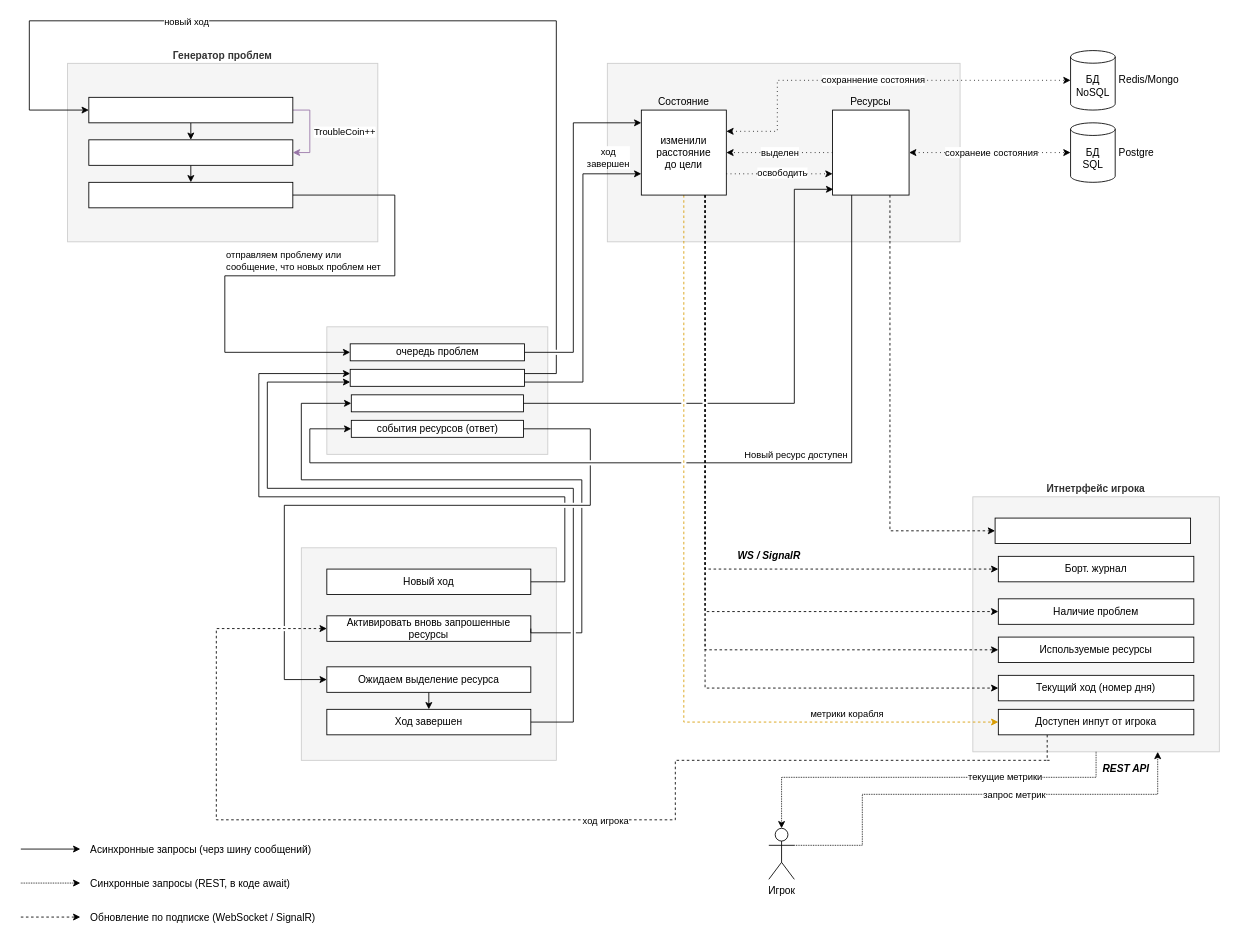
The diagram is 1234 pixels wide and 945 high, and some of its shapes have lost their labels. Each missing label, with the box of its shape:
Генератор проблем (randomizer): (88, 139, 293, 165)
Доступные ресурсы: (994, 517, 1191, 544)
Игровой контроллер: (300, 547, 556, 760)
Корабль: (606, 62, 960, 242)
Ожидаем событе начала хода: (88, 96, 293, 123)
очередь запросов к ресурсам: (350, 394, 523, 412)
Публикуем событие: (88, 181, 293, 208)
события хода игры: (349, 368, 524, 386)
Шина сообщний: (326, 326, 548, 454)
